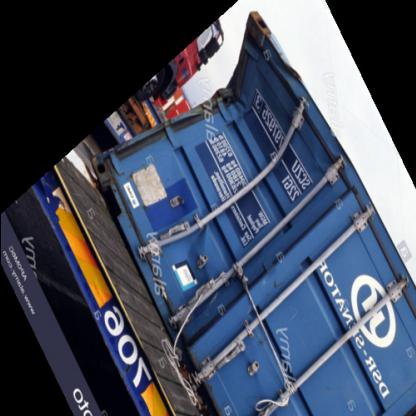Damage: (112, 15, 328, 261)
